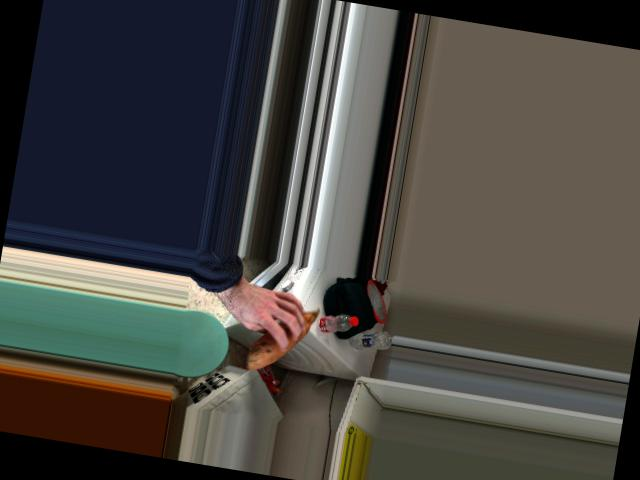sweet_potato: (247, 294, 317, 374)
